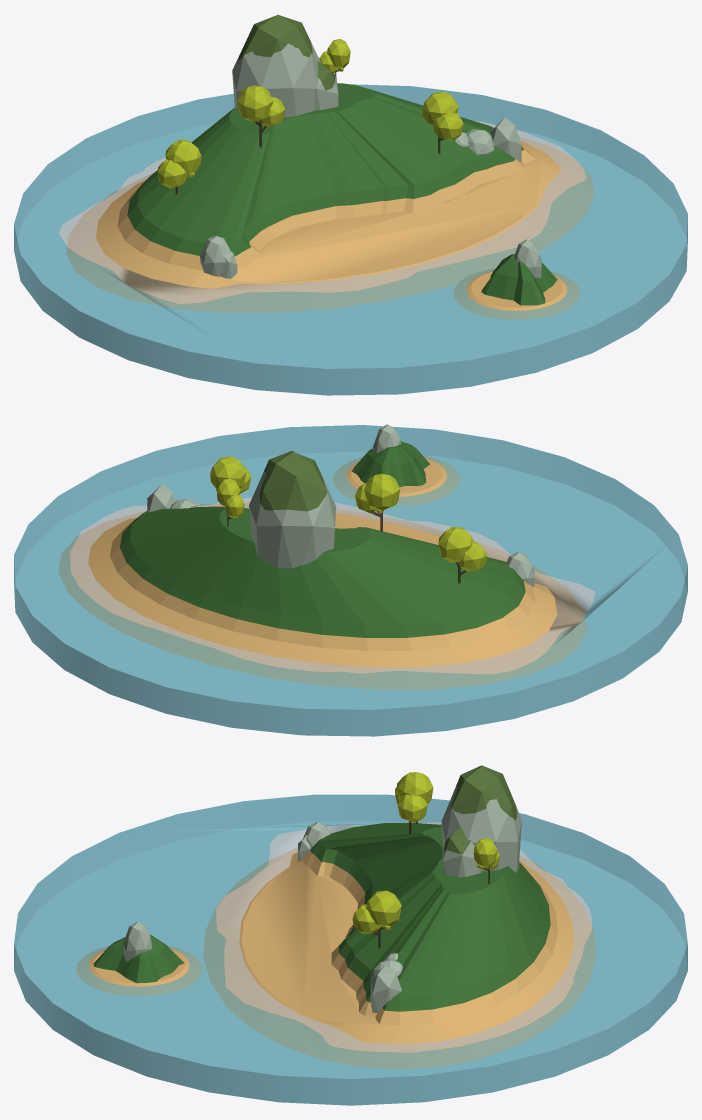
The picture shows the model from 3 angles, top to bottom: view 1: azimuth 30°, elevation 25°; view 2: azimuth 150°, elevation 25°; view 3: azimuth 270°, elevation 25°; orthographic projection.
Visible parts, largest first — view 1: Cylinder002, Cylinder003, GeoSphere011; view 2: Cylinder002, Cylinder003, GeoSphere011; view 3: Cylinder002, Cylinder003, GeoSphere011.
Boxes of the visible parts, x1,y1,x2,y2 form: Cylinder002: [14, 69, 687, 395]; Cylinder003: [66, 14, 594, 319]; GeoSphere011: [157, 39, 463, 188]; Cylinder002: [14, 425, 687, 736]; Cylinder003: [58, 424, 586, 689]; GeoSphere011: [210, 456, 486, 571]; Cylinder002: [14, 794, 687, 1105]; Cylinder003: [76, 765, 595, 1069]; GeoSphere011: [352, 772, 499, 933].
Size of the model in its own units: 119 by 37.54 by 119.
Materials: 3 (3 with a texture image).
